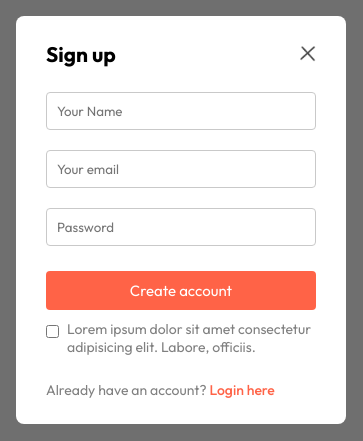
Scenario: Login Component › toggles back to sign up form
Click the text "Login here": coordinates (242, 390) x1=210 y1=381 x2=275 y2=399
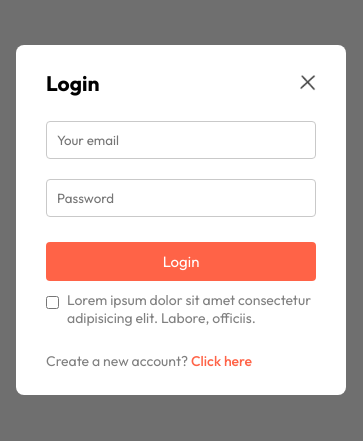
Click the text "Click here": coordinates (222, 361) x1=191 y1=352 x2=252 y2=370
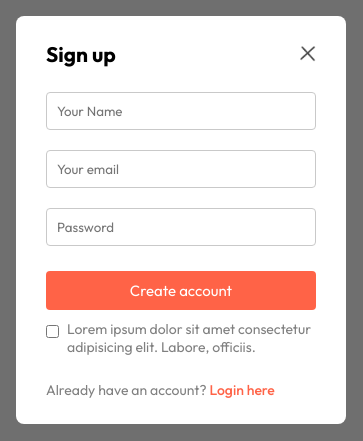
Expected: the heading "Sign up" is shown, x1=46 y1=41 x2=116 y2=67
Expected: the field with placeholder "Your Name" is shown, x1=46 y1=92 x2=316 y2=130
Expected: the button "Create account" is shown, x1=46 y1=271 x2=316 y2=310
